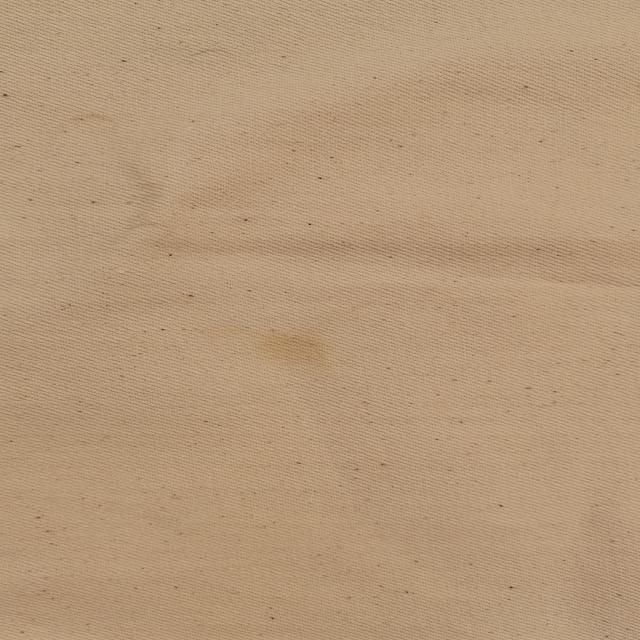taaaches: (242, 324, 344, 374)
